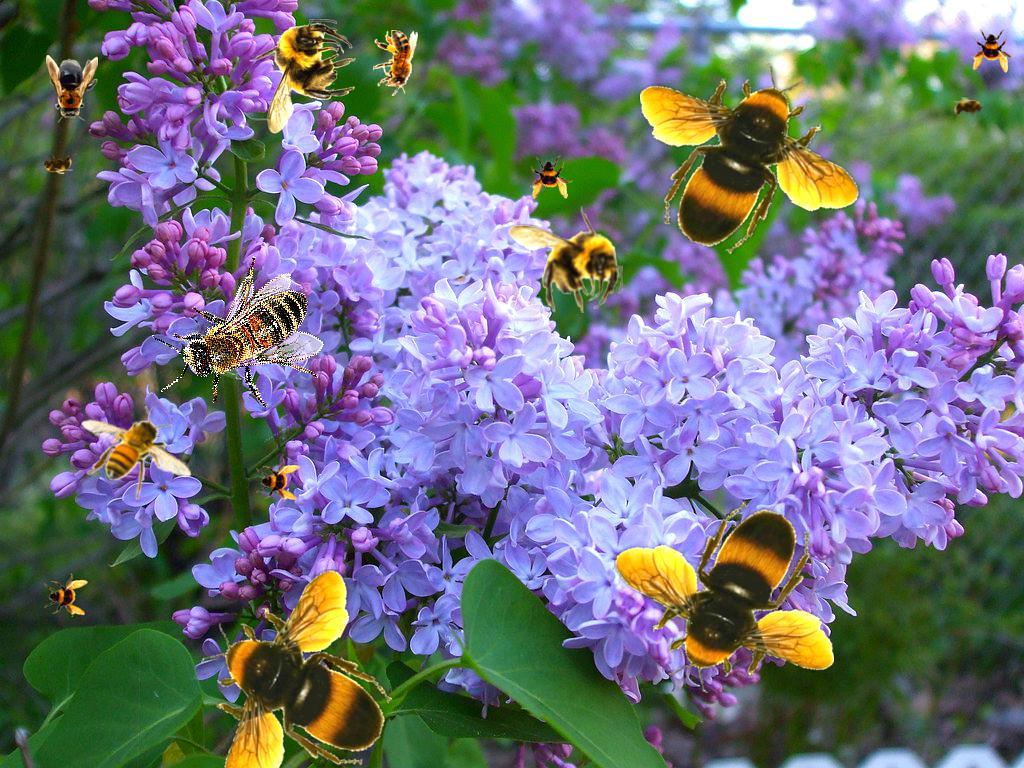Bee: (131, 231, 354, 451), (614, 502, 834, 693), (640, 63, 860, 254), (201, 569, 392, 768), (508, 206, 623, 313), (249, 19, 356, 134), (81, 406, 192, 500), (46, 55, 98, 123), (373, 30, 418, 96), (527, 154, 575, 202), (971, 29, 1015, 73), (44, 573, 88, 617), (256, 458, 300, 502), (949, 97, 989, 119), (37, 153, 77, 175)
